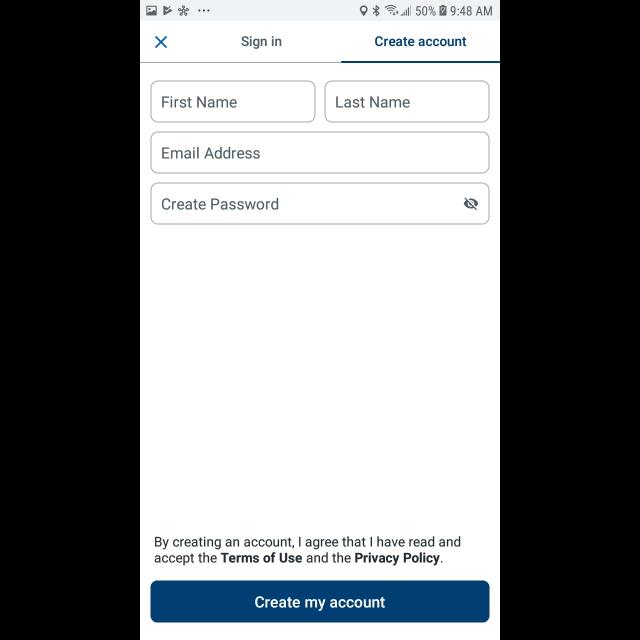icon: (464, 198, 478, 210), (156, 36, 168, 49)
input: (150, 183, 490, 225), (150, 132, 490, 174), (150, 81, 316, 123), (324, 81, 490, 123)
text: (155, 536, 461, 566), (162, 198, 278, 210), (163, 147, 261, 159), (376, 36, 466, 48), (162, 96, 238, 108), (336, 96, 410, 108), (242, 36, 282, 50)
textbutton: (150, 580, 490, 624)
uppertaskbar: (140, 1, 500, 22)
